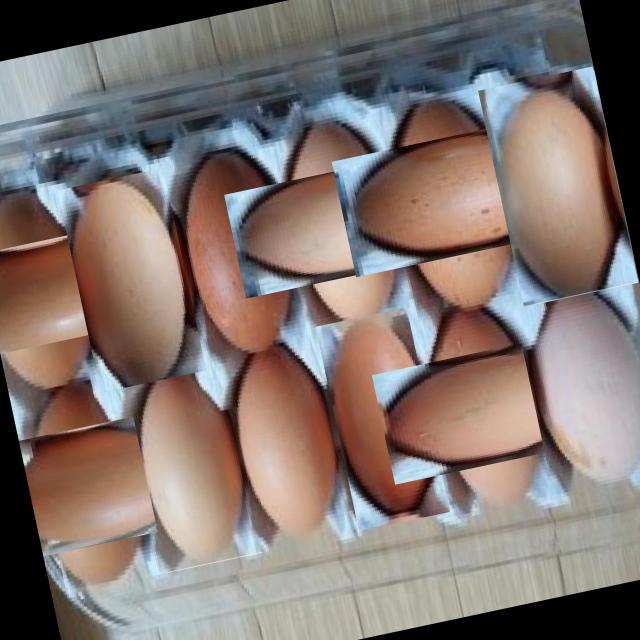eggs: (350, 96, 550, 296), (478, 66, 638, 306), (244, 127, 436, 319), (390, 312, 582, 504), (56, 166, 208, 392), (163, 143, 314, 362), (314, 306, 450, 532), (15, 394, 181, 574), (511, 271, 640, 502), (218, 330, 355, 544), (125, 360, 262, 572), (0, 199, 133, 381)
